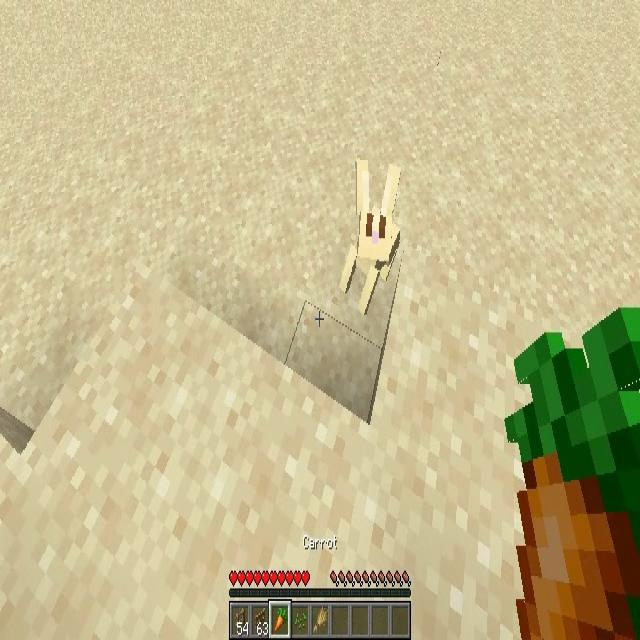rabbit: (345, 155, 401, 301)
